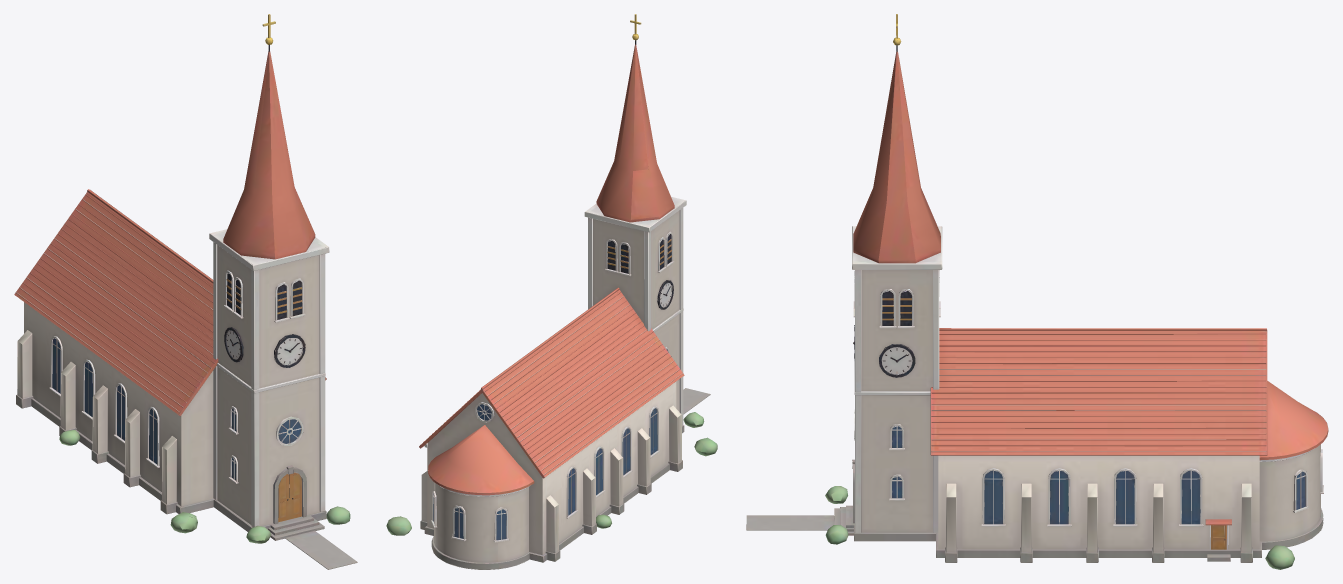
Rendered from church.glb.
The picture shows the model from 3 angles, left to right: view 1: azimuth 30°, elevation 25°; view 2: azimuth 150°, elevation 25°; view 3: azimuth 270°, elevation 25°; orthographic projection. The views are drawn at different scales.
Visible parts, largest first — view 1: church_body; view 2: church_body; view 3: church_body.
Boxes of the visible parts, x1,y1,x2,y2 form: church_body: [14, 14, 357, 569]; church_body: [386, 14, 717, 569]; church_body: [746, 14, 1328, 569].
Bounding box in the file's own units: 16.13 × 38.4 × 39.79.
Materials: 1 (1 with a texture image).
